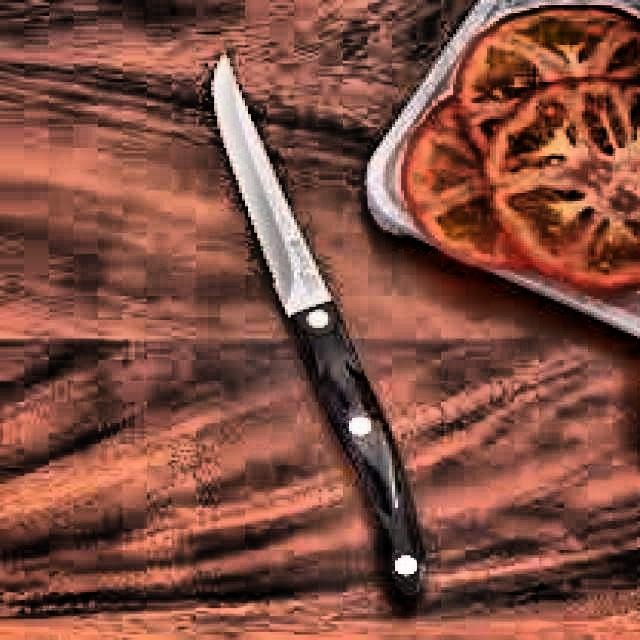knife: (203, 52, 434, 608)
